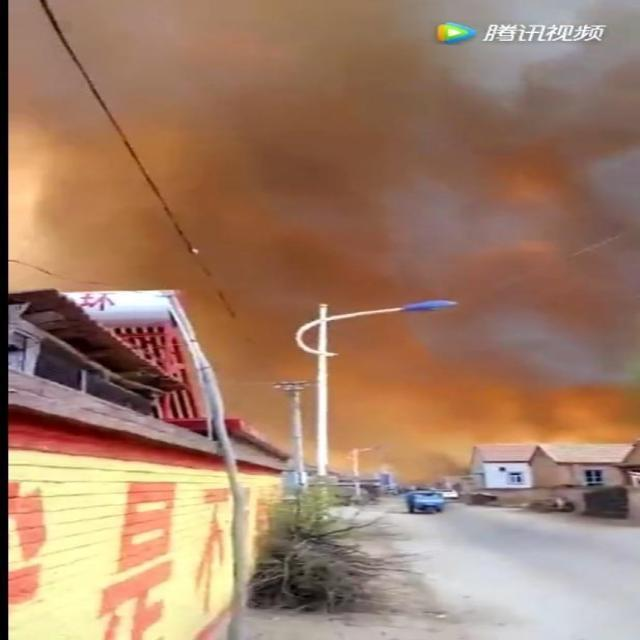Smoke: (8, 1, 640, 486)
